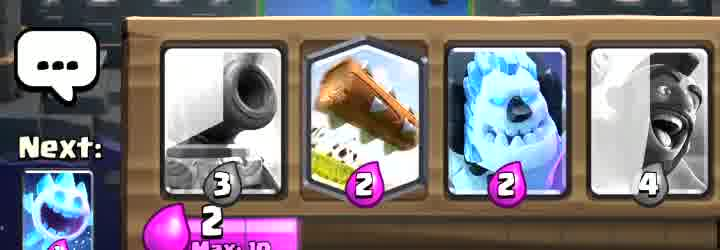ice-golem: (447, 51, 560, 196)
ice-spirit: (24, 170, 94, 250)
log: (310, 43, 424, 193)
